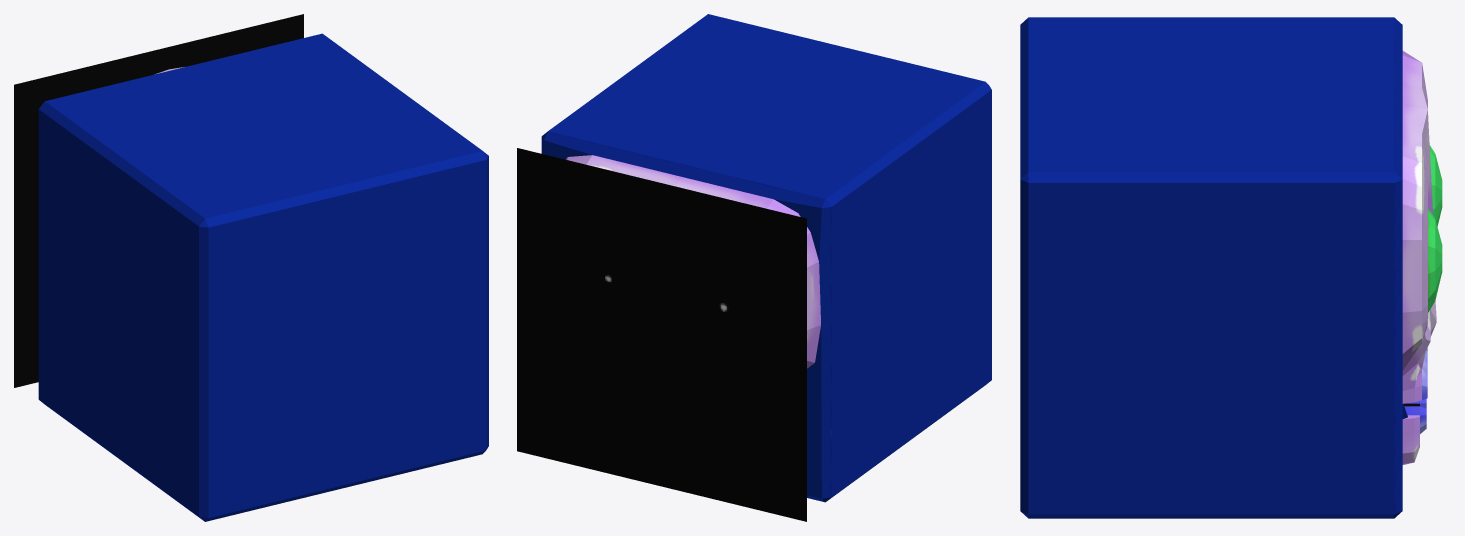
File: Block Assets Skeleton THREE.fbx
3 views of the same model, side by side, from view 1: azimuth 30°, elevation 25°; view 2: azimuth 150°, elevation 25°; view 3: azimuth 270°, elevation 25° (orthographic). The views are drawn at different scales.
Visible parts, largest first — view 1: Block Skeleton THREE, Skeleton Plane.003; view 2: Block Skeleton THREE, Skeleton Plane.003; view 3: Block Skeleton THREE.
Part boxes in pixels (box(x1,y1,x2,y2)): Block Skeleton THREE: box(38, 33, 488, 521); Skeleton Plane.003: box(14, 14, 303, 387); Block Skeleton THREE: box(541, 14, 991, 502); Skeleton Plane.003: box(517, 148, 806, 521); Block Skeleton THREE: box(1020, 17, 1442, 518).
Size of the model in its own units: 1 by 1 by 1.13.
